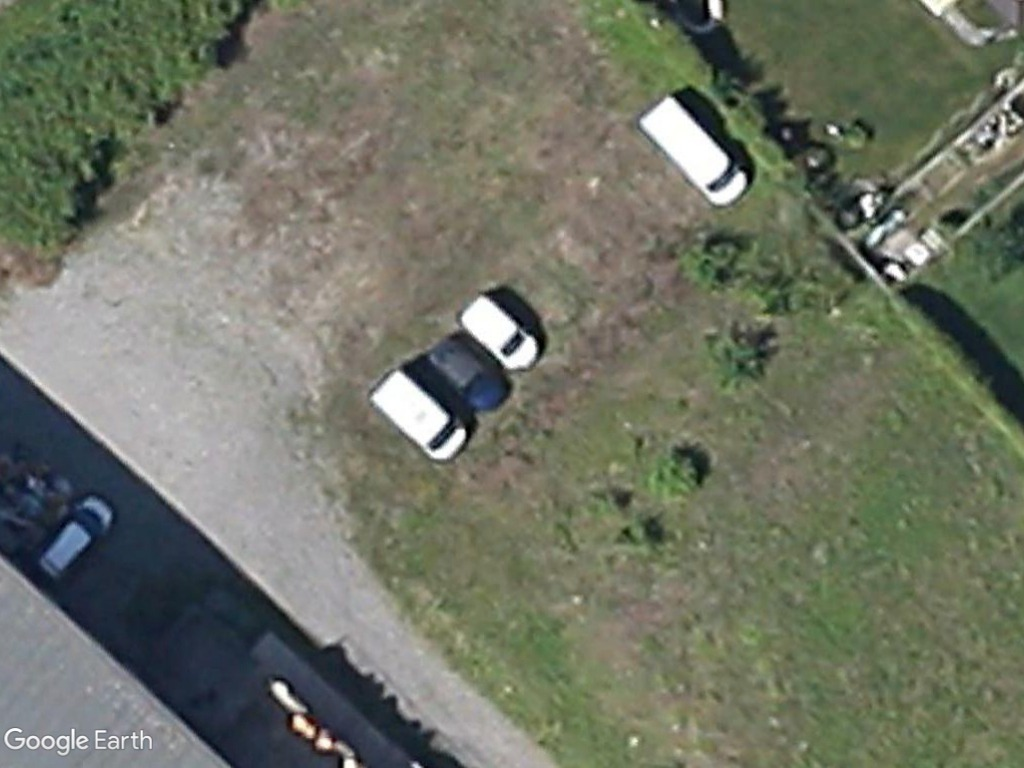car: (31, 486, 123, 586)
van: (636, 94, 749, 210), (364, 370, 469, 466), (423, 333, 509, 415), (453, 297, 543, 372)
